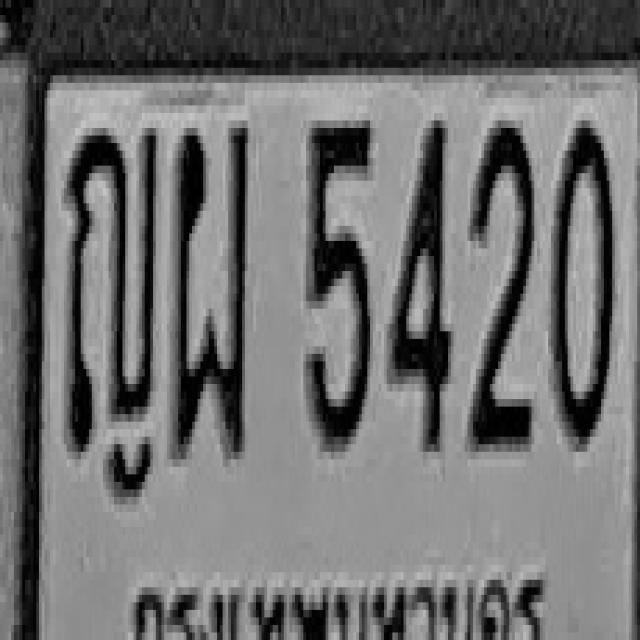0: (551, 113, 612, 437)
2: (468, 117, 534, 440)
22YorYing: (66, 120, 158, 452)
37PhorPhueng: (171, 117, 249, 456)
4: (388, 109, 449, 448)
5: (304, 109, 372, 448)
